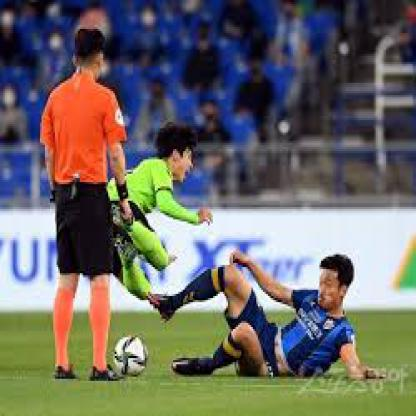Fall_Down: (145, 249, 388, 384)
